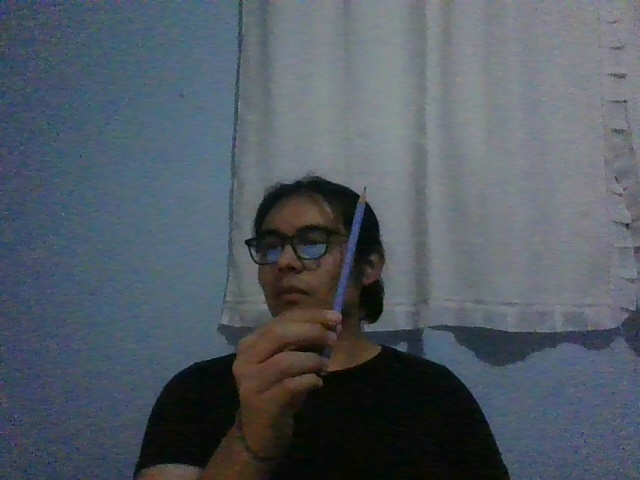lapiz: (331, 185, 367, 313)
